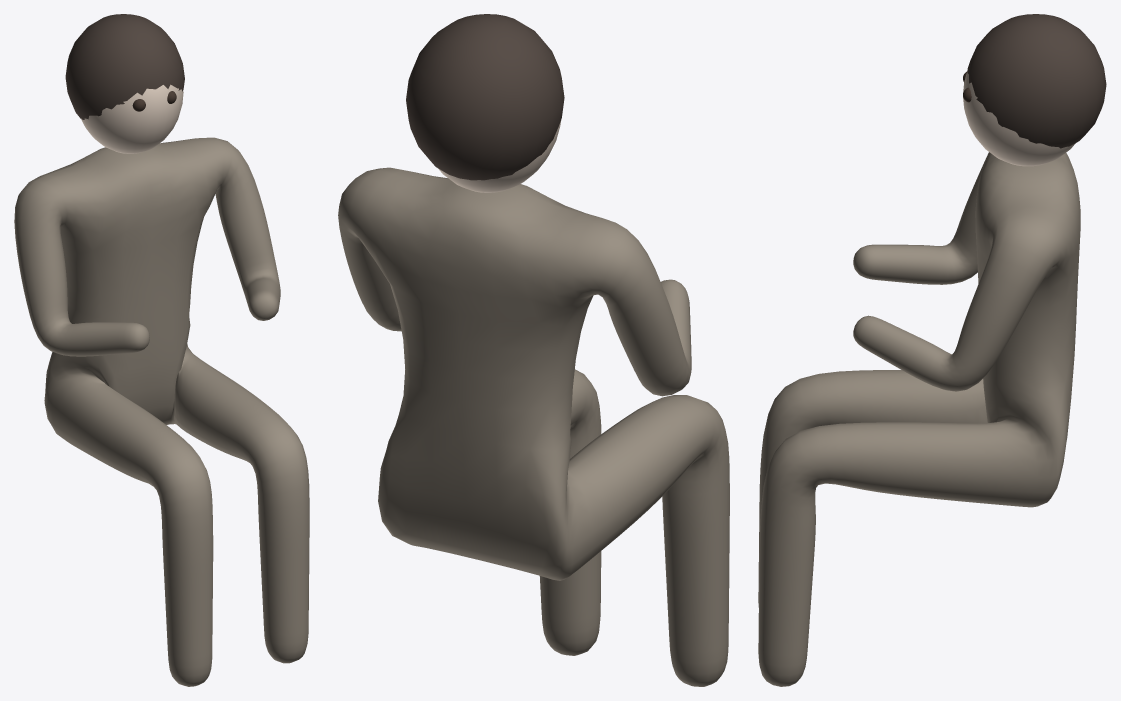
File: otec.glb
The picture shows the model from 3 angles, left to right: view 1: azimuth 30°, elevation 25°; view 2: azimuth 150°, elevation 25°; view 3: azimuth 270°, elevation 25°; orthographic projection. The views are drawn at different scales.
Visible parts, largest first — view 1: body, hair, head; view 2: body, hair, head; view 3: body, hair, head.
Boxes of the visible parts, x1=… form: body: x1=14, y1=137, x2=309, y2=686; hair: x1=65, y1=14, x2=184, y2=119; head: x1=81, y1=84, x2=183, y2=153; body: x1=338, y1=167, x2=729, y2=686; hair: x1=406, y1=14, x2=564, y2=180; head: x1=438, y1=120, x2=561, y2=192; body: x1=758, y1=152, x2=1080, y2=686; hair: x1=967, y1=14, x2=1106, y2=148; head: x1=963, y1=72, x2=1075, y2=166.
Size of the model in its own units: 0.5747 by 1.3 by 0.6412.
